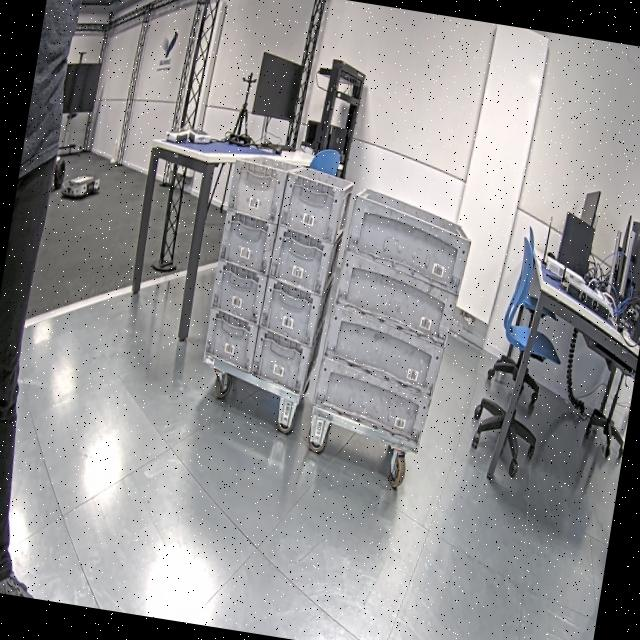Box3G: (322, 306, 447, 398), (341, 200, 472, 286), (335, 260, 457, 334), (310, 367, 435, 436)
Box8G: (268, 226, 342, 294), (280, 170, 356, 236), (250, 329, 316, 394), (260, 280, 330, 338), (227, 155, 289, 218), (216, 210, 276, 273), (208, 262, 268, 324), (204, 319, 258, 369)
